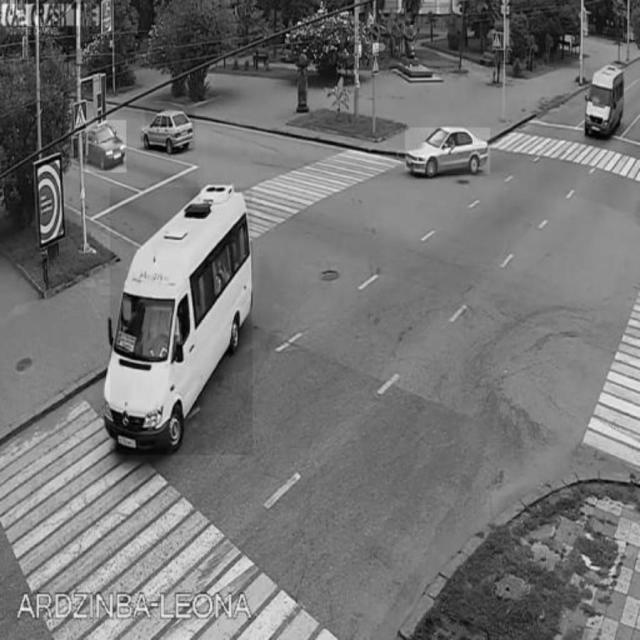vehicle: (111, 188, 253, 456), (405, 128, 489, 174), (585, 68, 623, 141), (86, 121, 127, 173), (145, 110, 195, 150)
